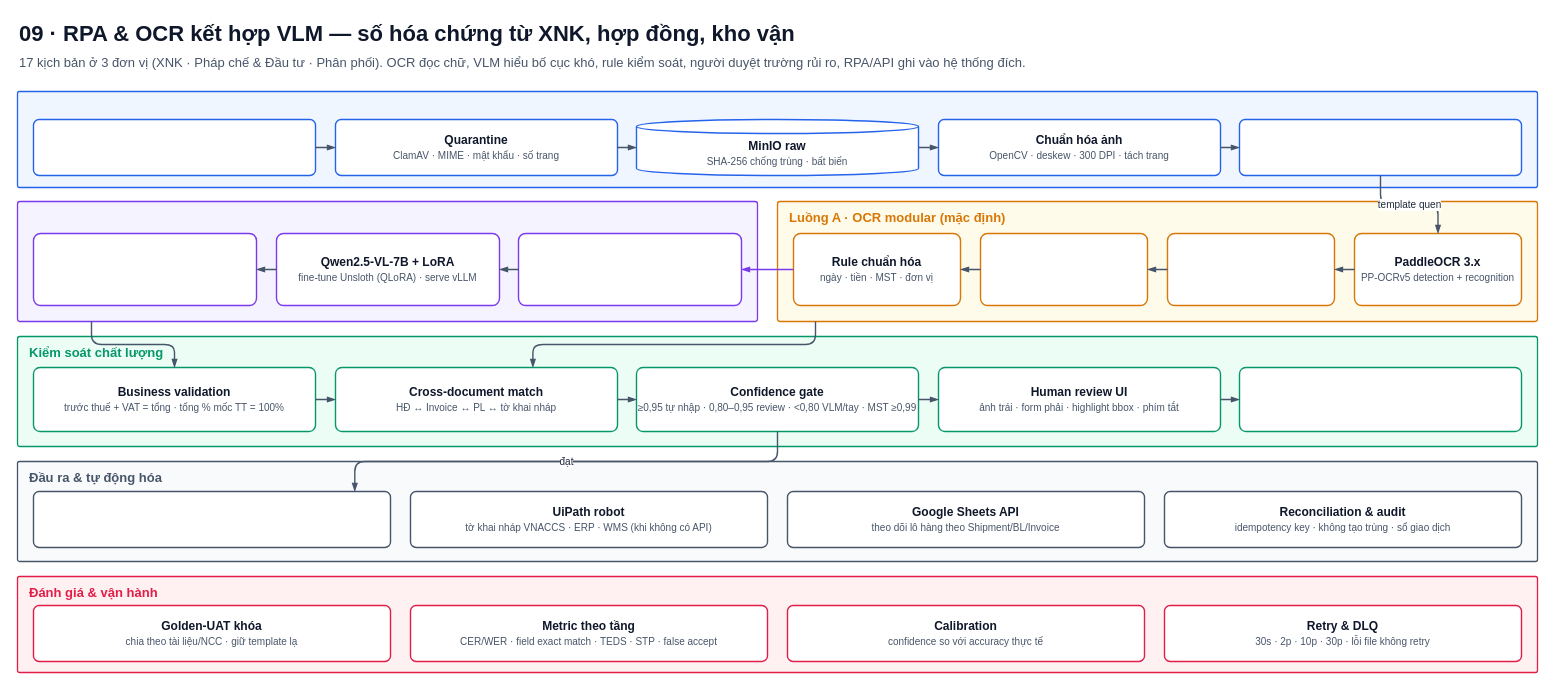
This 1556x690 diagram has some shape labels left out. The shapes that lost their labels are listed below. From the top down, each one's box as (x1, y1, x2, y2) in pixels, then its label:
(32, 118, 316, 176): Email · Upload · SFTP · API document_id · case_id (lô/B/L)
(16, 90, 1538, 188): Tiếp nhận (ingestion)
(1238, 118, 1522, 176): Phân loại chứng từ Invoice · PL · B/L · C/O · HĐ · phiếu kho
(32, 232, 257, 306): JSON schema + evidence bbox · trang · consistency nhiều lần chạy
(16, 200, 758, 322): Luồng B · VLM (fallback cho layout khó)
(517, 232, 742, 306): Router confidence thấp · thiếu trường · layout lạ · bảng merge cell
(979, 232, 1148, 306): LayoutLMv3 / KIE BIO token · key–value · Triton
(1166, 232, 1335, 306): PP-StructureV3 layout · bảng · reading order
(1238, 366, 1522, 432): Correction log giá trị AI + giá trị sửa → reviewer → golden/training
(32, 490, 391, 548): API → QLHĐ POST /api/v1/ocr/jobs · callback HMAC · mapping theo schema_version
